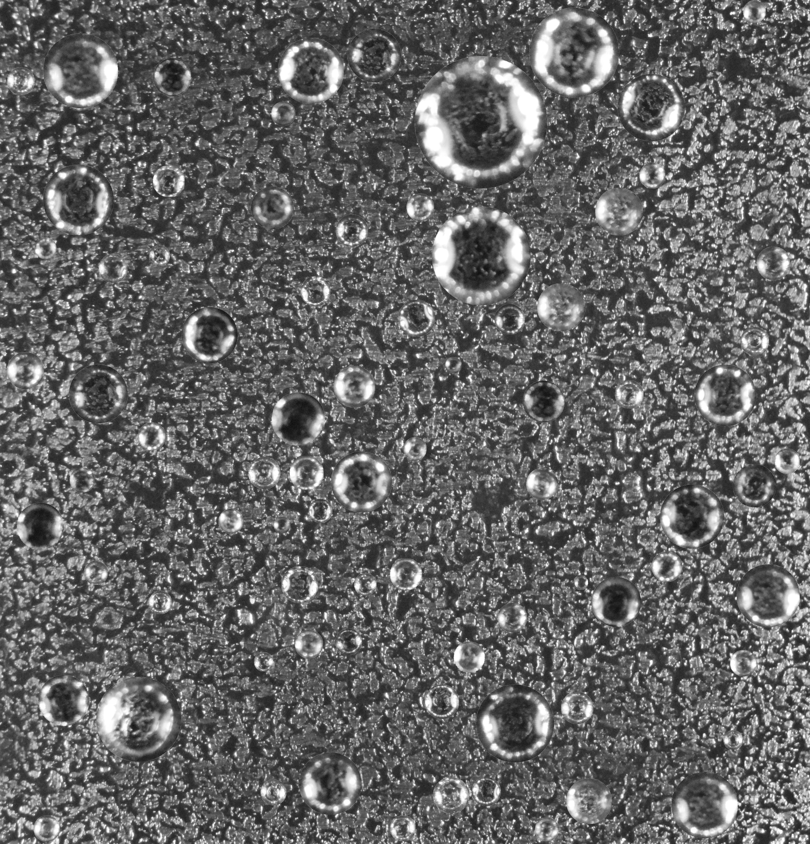Bubble: (414, 56, 547, 188), (432, 206, 530, 305), (529, 7, 619, 97), (96, 677, 181, 761), (476, 684, 554, 762), (43, 33, 117, 108), (43, 164, 113, 235), (617, 73, 685, 141), (671, 772, 737, 838), (278, 37, 343, 103), (660, 484, 724, 548), (736, 564, 799, 627), (694, 364, 756, 426), (299, 752, 361, 814), (331, 451, 391, 512), (68, 364, 127, 423), (181, 307, 237, 363), (347, 28, 401, 82), (271, 392, 325, 445), (38, 675, 89, 725), (591, 577, 641, 626), (537, 283, 585, 331), (595, 187, 642, 235), (16, 502, 63, 549), (566, 778, 611, 824), (733, 464, 776, 507), (251, 186, 293, 229), (522, 380, 564, 422), (333, 366, 375, 407), (153, 58, 191, 96), (6, 352, 43, 389), (398, 299, 435, 336), (281, 566, 318, 603), (433, 777, 469, 813), (424, 684, 459, 718), (756, 246, 790, 280), (289, 456, 323, 490), (335, 214, 368, 246), (561, 691, 593, 724), (248, 457, 280, 489), (390, 558, 422, 590), (152, 165, 184, 197), (526, 468, 558, 499), (453, 641, 484, 672), (651, 551, 682, 581), (300, 276, 330, 306), (494, 304, 524, 334), (497, 603, 527, 632), (471, 777, 500, 806), (740, 327, 769, 355), (98, 254, 127, 282), (294, 630, 323, 658), (406, 193, 434, 221), (137, 422, 165, 450), (615, 380, 643, 408), (7, 67, 34, 94), (335, 628, 361, 655), (260, 779, 286, 805), (639, 162, 665, 188), (33, 815, 59, 841), (730, 650, 756, 676), (390, 815, 415, 841), (218, 508, 243, 533), (69, 467, 94, 492), (774, 448, 799, 473), (83, 560, 107, 584), (271, 101, 295, 125), (308, 499, 332, 522), (535, 817, 558, 841), (403, 437, 426, 460), (148, 591, 171, 614), (743, 0, 765, 22), (34, 237, 56, 259), (354, 573, 376, 595), (148, 245, 169, 266), (723, 730, 743, 749), (254, 652, 273, 671), (273, 516, 290, 533), (445, 357, 461, 373), (573, 575, 588, 589)
